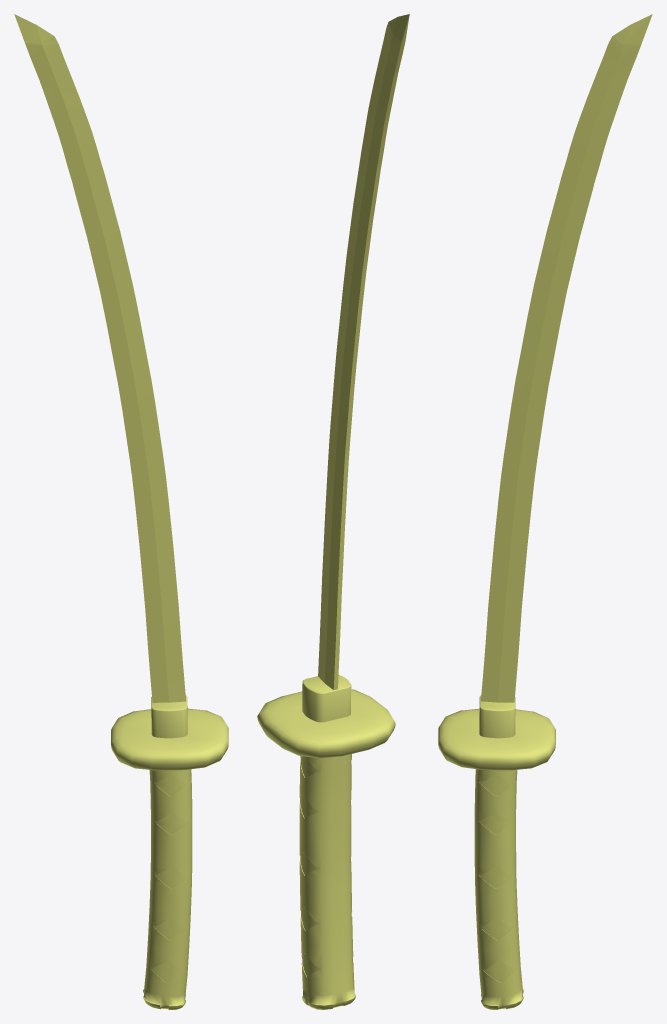
File: Sword.obj
The picture shows the model from 3 angles, left to right: view 1: azimuth 90°, elevation 25°; view 2: azimuth 210°, elevation 25°; view 3: azimuth 270°, elevation 25°; orthographic projection. The views are drawn at different scales.
Parts seen in each view (by area): view 1: Katana_Katana.002; view 2: Katana_Katana.002; view 3: Katana_Katana.002.
Boxes of the visible parts, x1=… form: Katana_Katana.002: x1=14, y1=14, x2=228, y2=1009; Katana_Katana.002: x1=257, y1=14, x2=409, y2=1009; Katana_Katana.002: x1=438, y1=14, x2=652, y2=1009.
Bounding box in the file's own units: 4.14 × 38.37 × 7.54.
